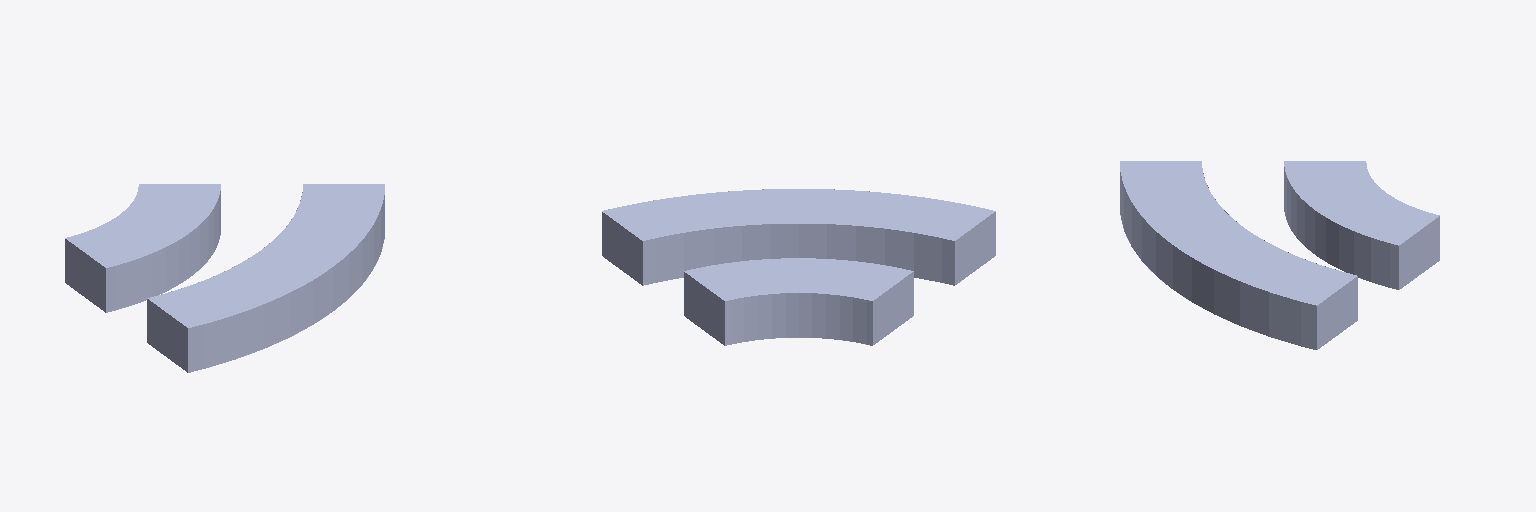
File: Magnet.obj
The picture shows the model from 3 angles: view 1: azimuth 30°, elevation 25°; view 2: azimuth 150°, elevation 25°; view 3: azimuth 270°, elevation 25°; orthographic projection.
Visible parts, largest first — view 1: ig_ManifoldSolidBRep109_DC_Shell, ig_ManifoldSolidBRep217_DC_Shell; view 2: ig_ManifoldSolidBRep109_DC_Shell, ig_ManifoldSolidBRep217_DC_Shell; view 3: ig_ManifoldSolidBRep109_DC_Shell, ig_ManifoldSolidBRep217_DC_Shell.
Part boxes in pixels (x1,y1,x2,y2): ig_ManifoldSolidBRep109_DC_Shell: (147, 184, 384, 372); ig_ManifoldSolidBRep217_DC_Shell: (65, 184, 220, 312); ig_ManifoldSolidBRep109_DC_Shell: (602, 189, 995, 285); ig_ManifoldSolidBRep217_DC_Shell: (684, 258, 913, 345); ig_ManifoldSolidBRep109_DC_Shell: (1120, 161, 1357, 349); ig_ManifoldSolidBRep217_DC_Shell: (1284, 161, 1439, 289).
Size of the model in its own units: 1.73 by 0.25 by 1.62.